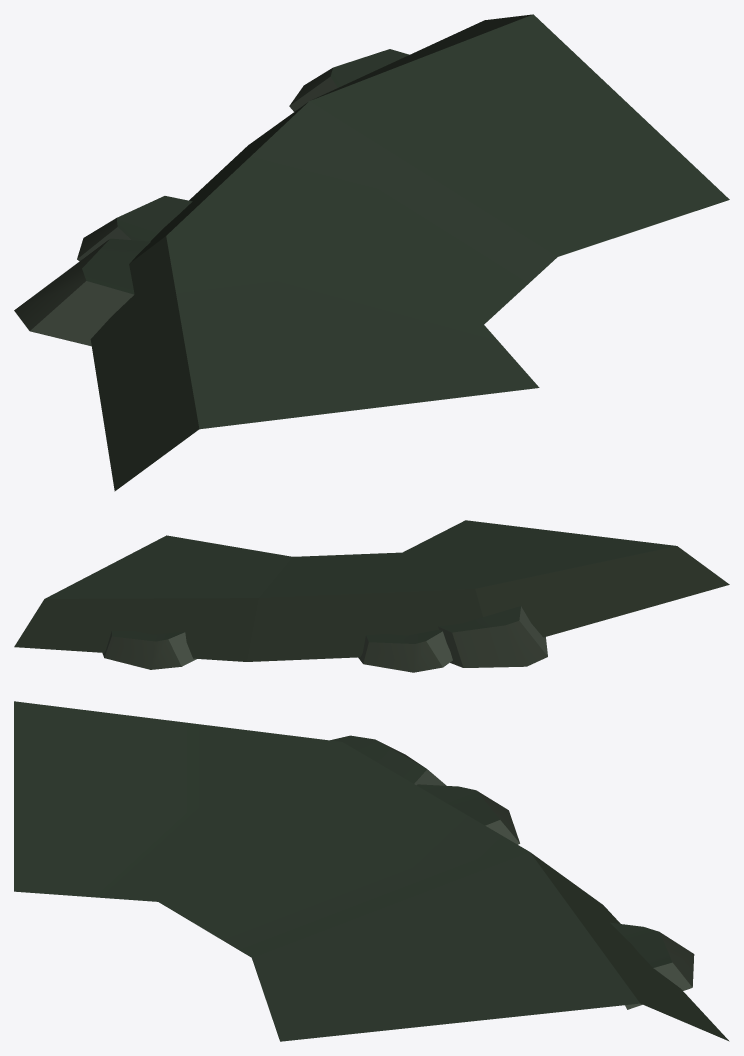
The model's file is SF_Env_SwampEdge_Corner_04.glb.
The picture shows the model from 3 angles, top to bottom: view 1: azimuth 30°, elevation 25°; view 2: azimuth 150°, elevation 25°; view 3: azimuth 270°, elevation 25°; orthographic projection. The views are drawn at different scales.
Visible parts, largest first — view 1: SF_Env_SwampEdge_Corner_04; view 2: SF_Env_SwampEdge_Corner_04; view 3: SF_Env_SwampEdge_Corner_04.
Part boxes in pixels (x1,y1,x2,y2): SF_Env_SwampEdge_Corner_04: (14, 14, 729, 491); SF_Env_SwampEdge_Corner_04: (14, 520, 729, 672); SF_Env_SwampEdge_Corner_04: (14, 701, 729, 1041).
Size of the model in its own units: 0.163 by 0.0158 by 0.145.
Materials: 1 (1 with a texture image).
